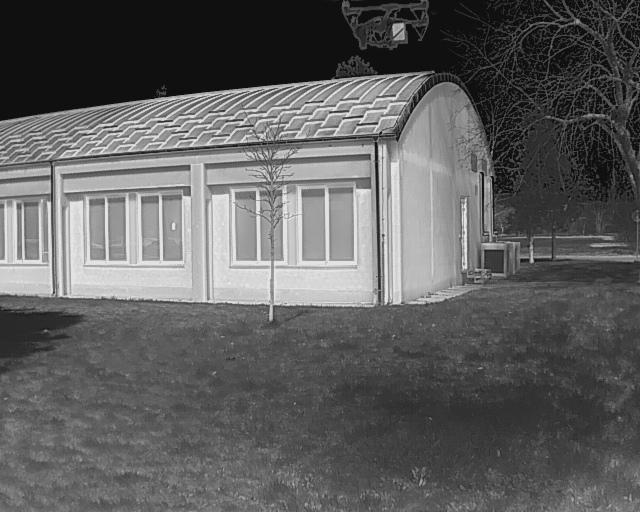drone: (323, 0, 447, 66)
